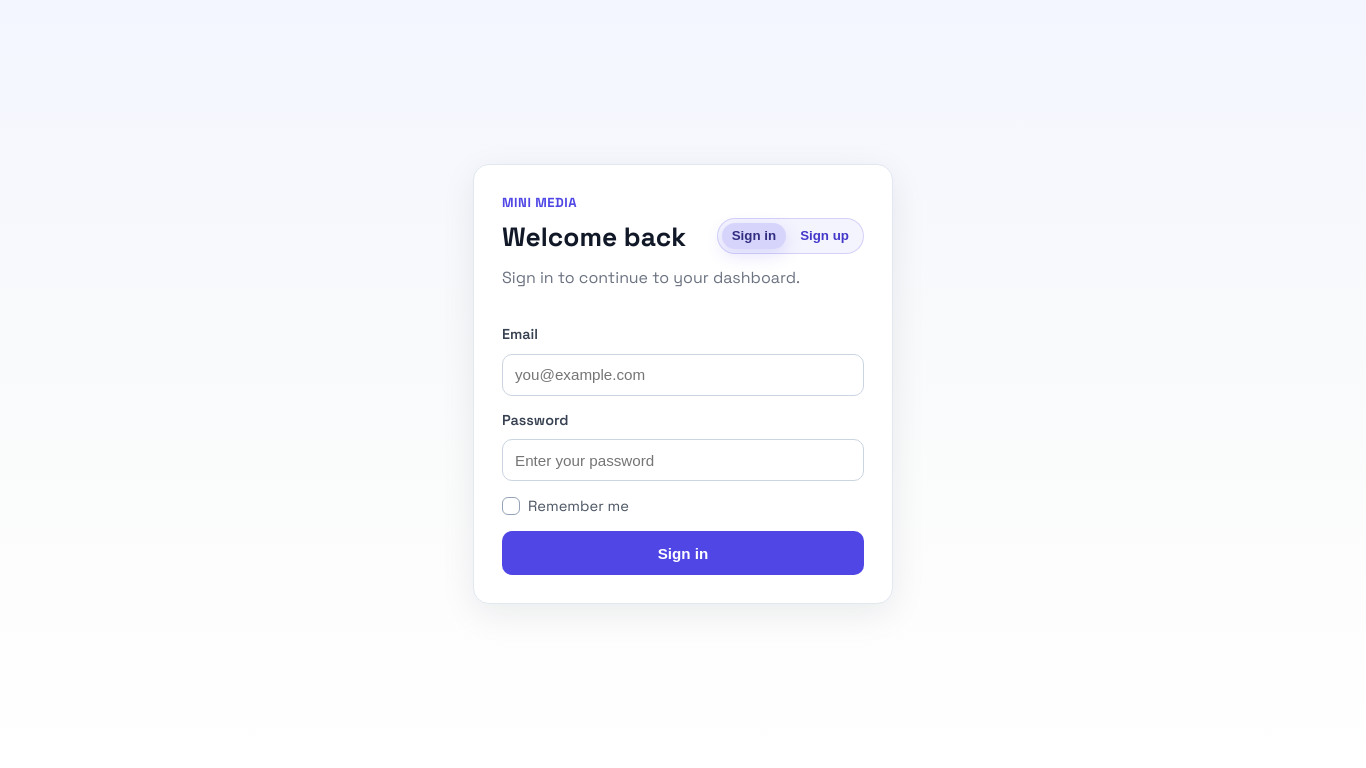
Test: App › displays backend errors and allows retrying
Type "test@example.com" into the field labelled "Email" at (683, 375), box [502, 354, 864, 396]
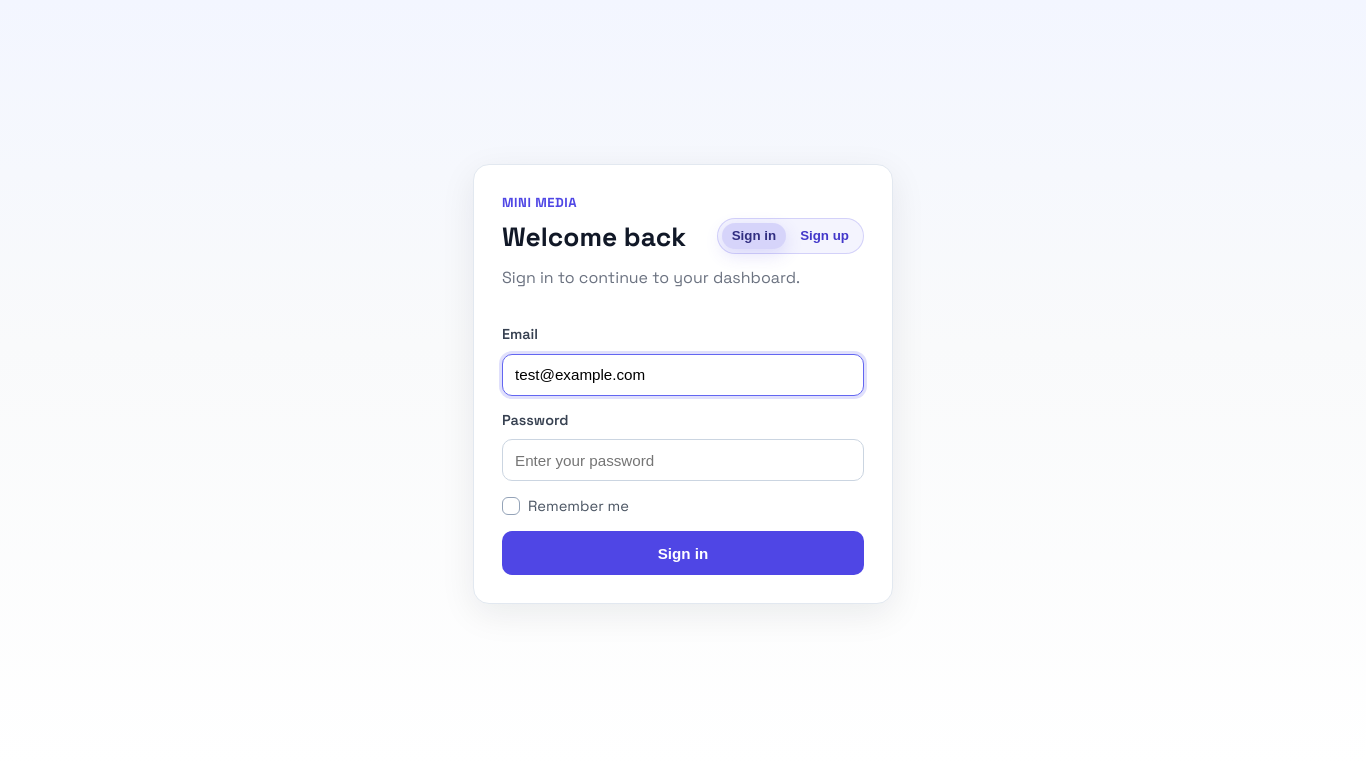
Type "secret123" into the password field labelled "Password" at (683, 460), box [502, 439, 864, 481]
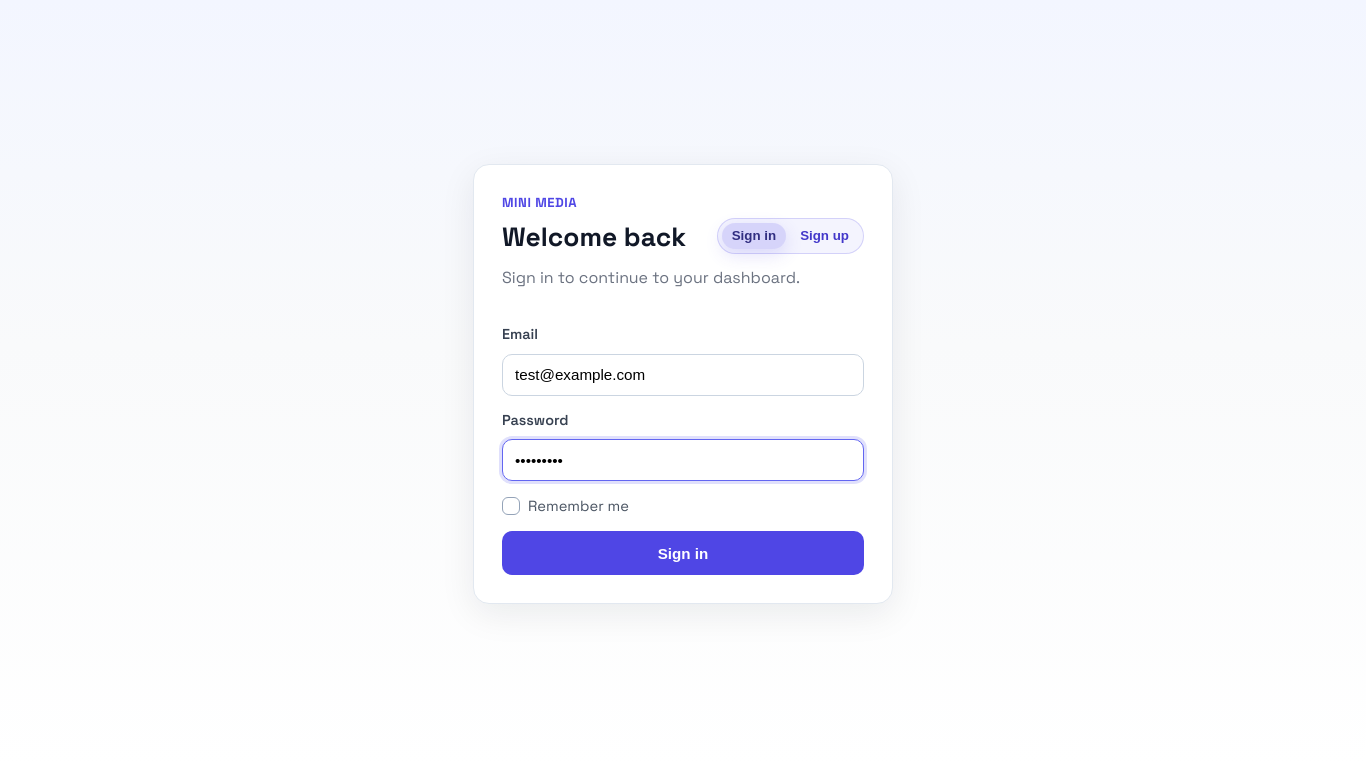
Click the button "Sign in" below "Remember me" at (683, 553), box [502, 531, 864, 575]
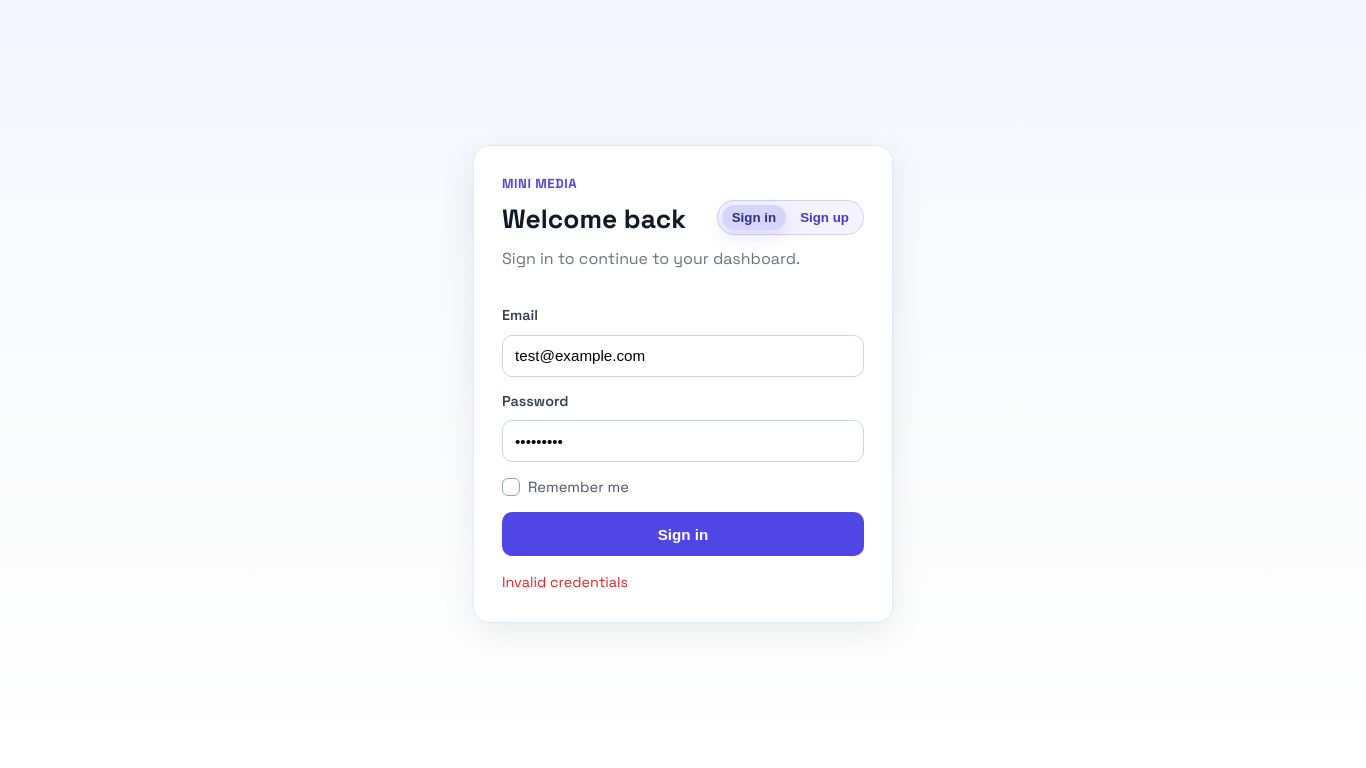
Check: the button "Sign in" below "Remember me" is enabled, box [502, 512, 864, 556]
Check: the message reads "Invalid credentials", box [502, 574, 628, 592]
